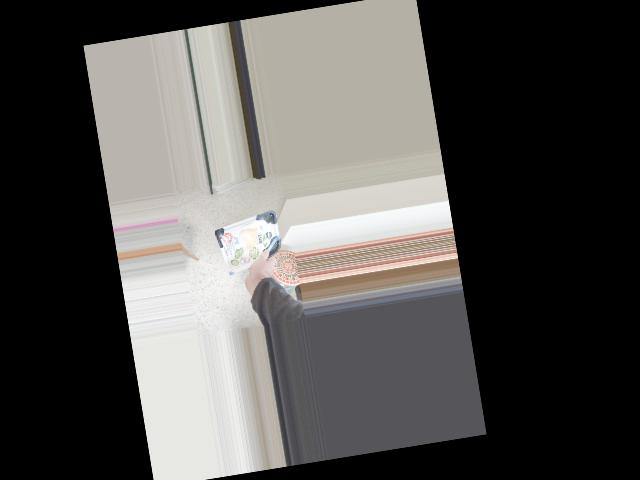cheese: (221, 227, 276, 284)
